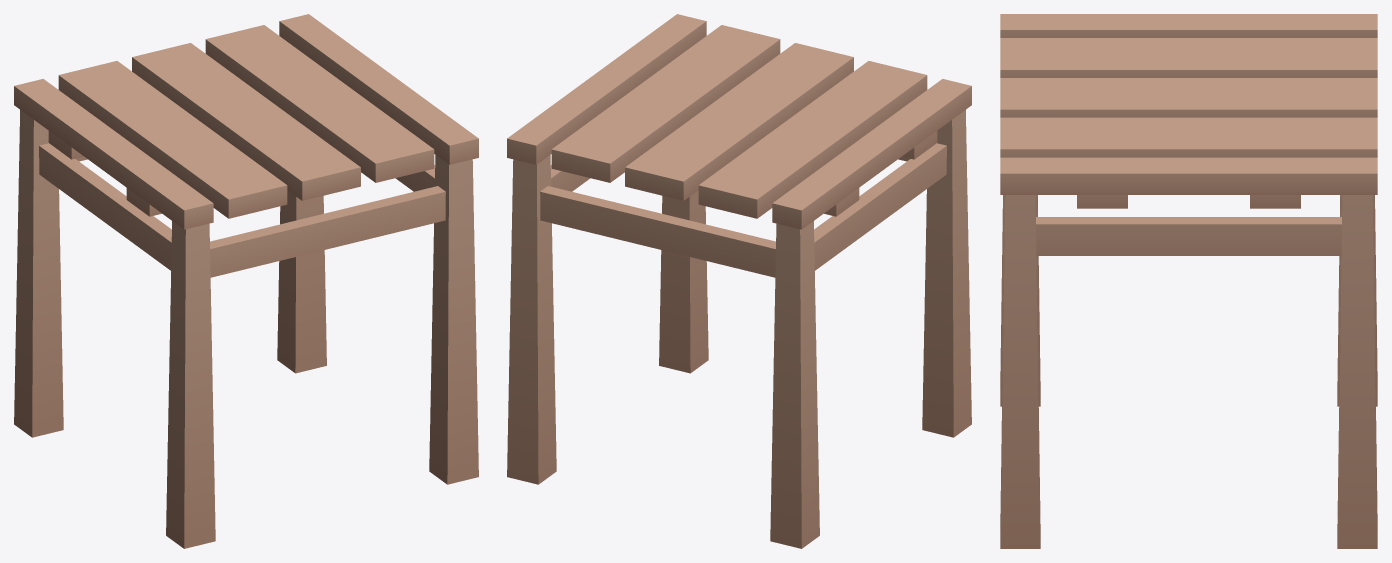
Rendered from structure-floor.glb.
The picture shows the model from 3 angles, left to right: view 1: azimuth 30°, elevation 25°; view 2: azimuth 150°, elevation 25°; view 3: azimuth 270°, elevation 25°; orthographic projection. The views are drawn at different scales.
Parts seen in each view (by area): view 1: structure-floor, Group; view 2: structure-floor, Group; view 3: Group, structure-floor.
Part boxes in pixels (x1,y1,x2,y2): structure-floor: (14, 110, 478, 548); Group: (14, 14, 478, 229); structure-floor: (507, 110, 971, 548); Group: (507, 14, 971, 229); Group: (1000, 14, 1377, 208); structure-floor: (1000, 195, 1377, 548).
Size of the model in its own units: 0.5 by 0.5487 by 0.5.
